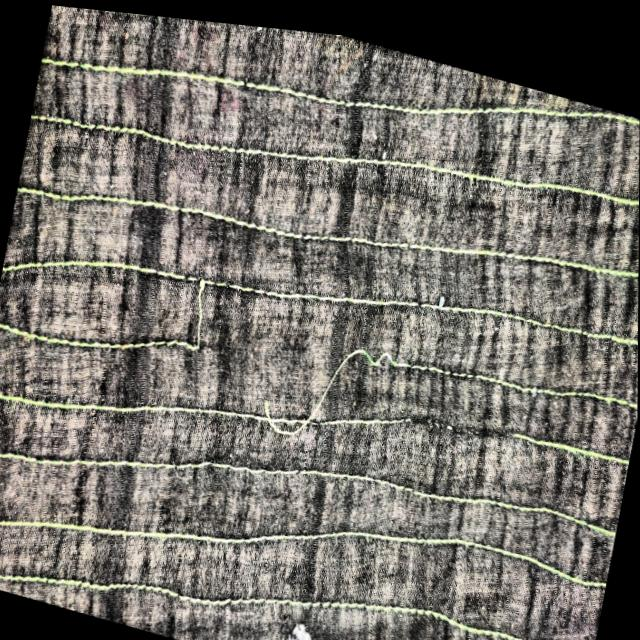Stitch: (246, 277, 411, 472), (456, 368, 607, 484), (149, 248, 233, 378)
